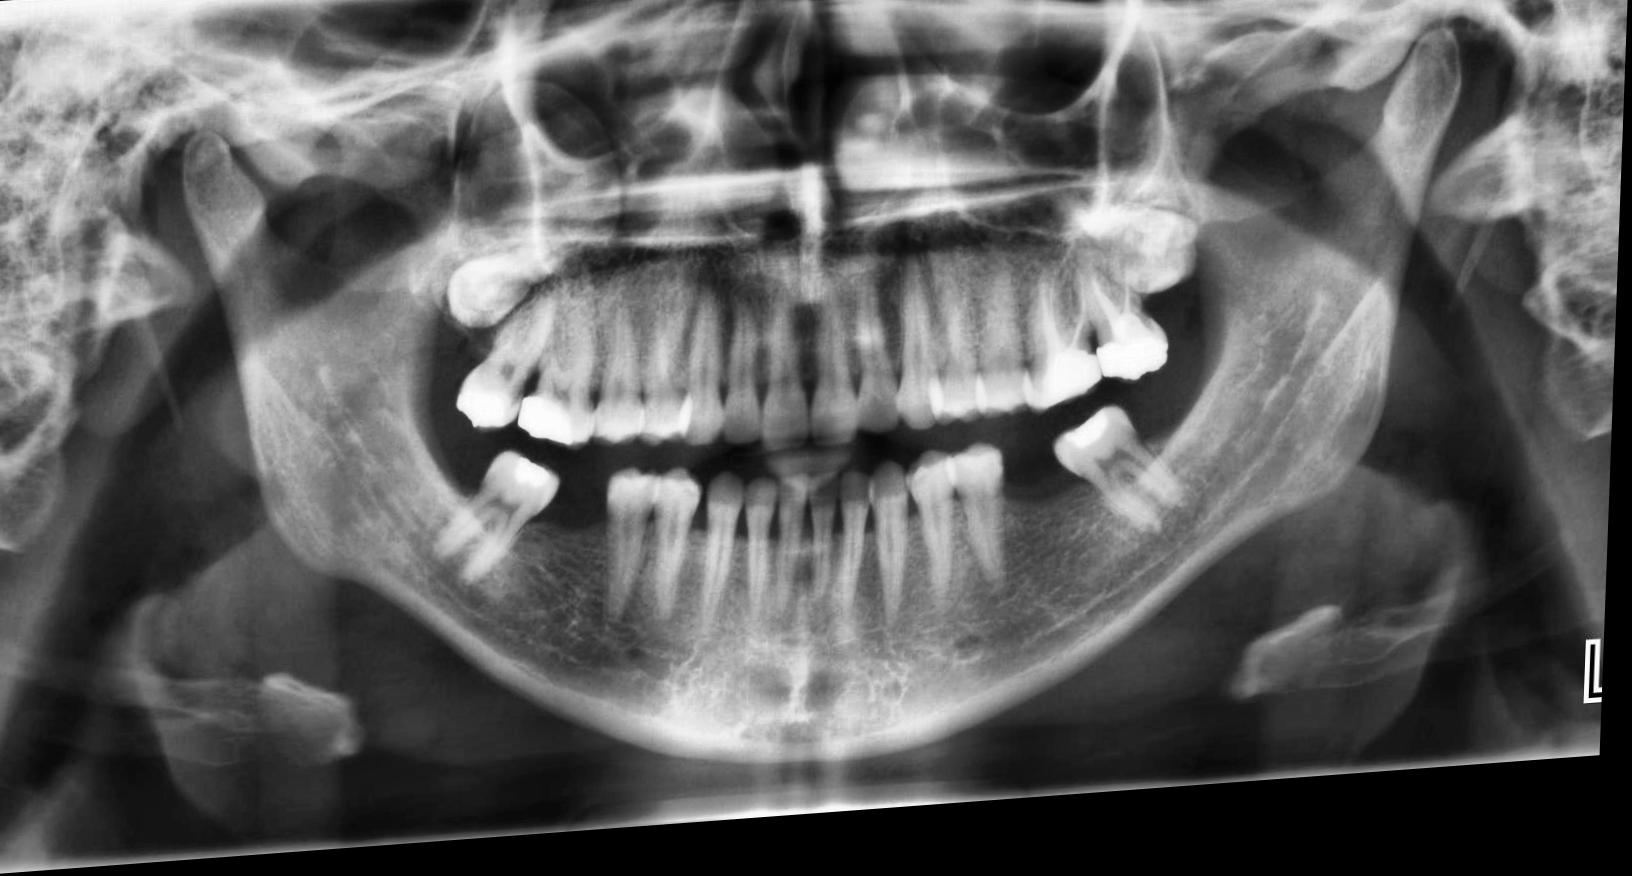keratokist: (453, 82, 623, 287)
